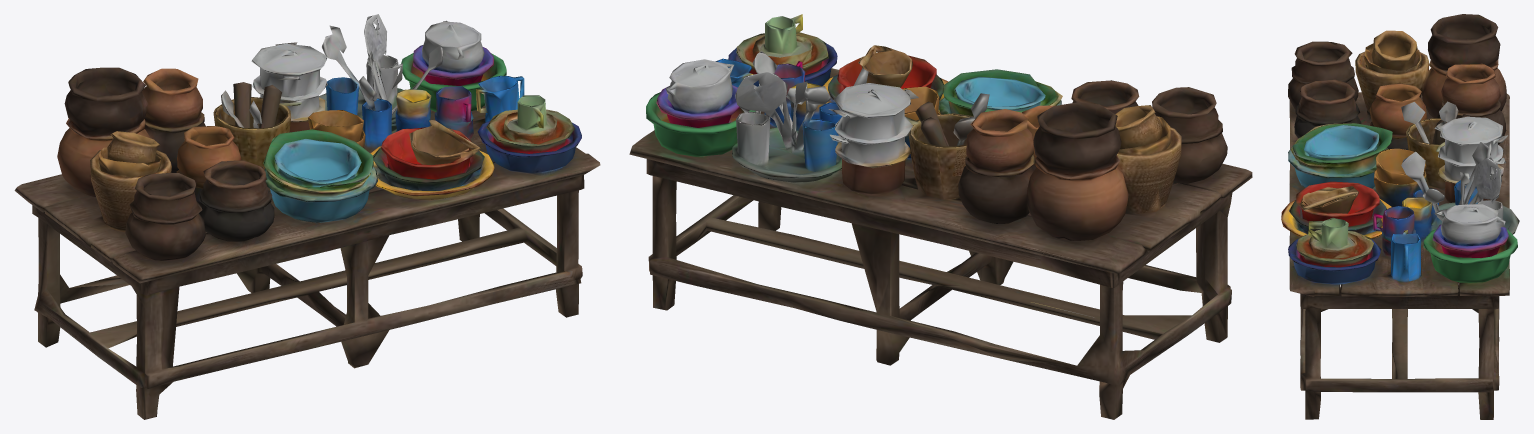
Rendered from market_pots_stall.glb.
3 renders of one model, left to right at view 1: azimuth 30°, elevation 25°; view 2: azimuth 150°, elevation 25°; view 3: azimuth 270°, elevation 25°, orthographic. The views are drawn at different scales.
Visible parts, largest first — view 1: tripo_node_b6c698b8-fad9-462f-ab89-8efc3df35573; view 2: tripo_node_b6c698b8-fad9-462f-ab89-8efc3df35573; view 3: tripo_node_b6c698b8-fad9-462f-ab89-8efc3df35573.
Boxes of the visible parts, box(x1,y1,x2,y2) form: tripo_node_b6c698b8-fad9-462f-ab89-8efc3df35573: box(14, 14, 600, 419); tripo_node_b6c698b8-fad9-462f-ab89-8efc3df35573: box(629, 14, 1252, 419); tripo_node_b6c698b8-fad9-462f-ab89-8efc3df35573: box(1281, 14, 1519, 419).
Bounding box in the file's own units: 1 × 0.5374 × 0.507.
1 material, 1 textured.
